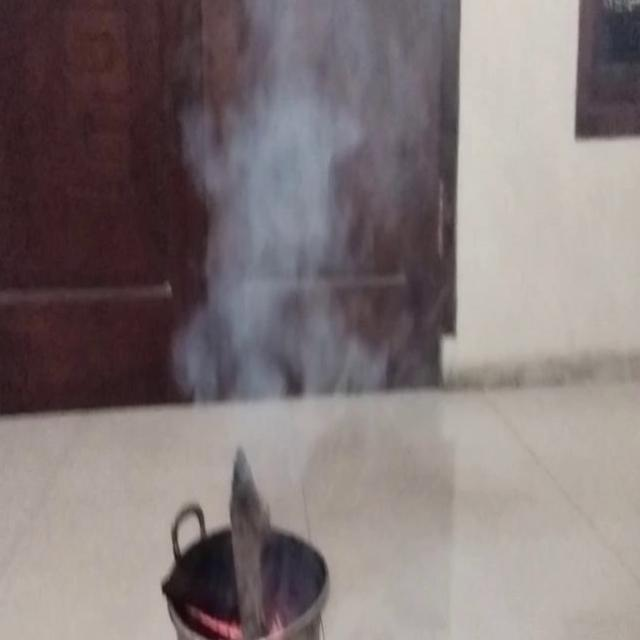fire: (165, 0, 398, 440)
